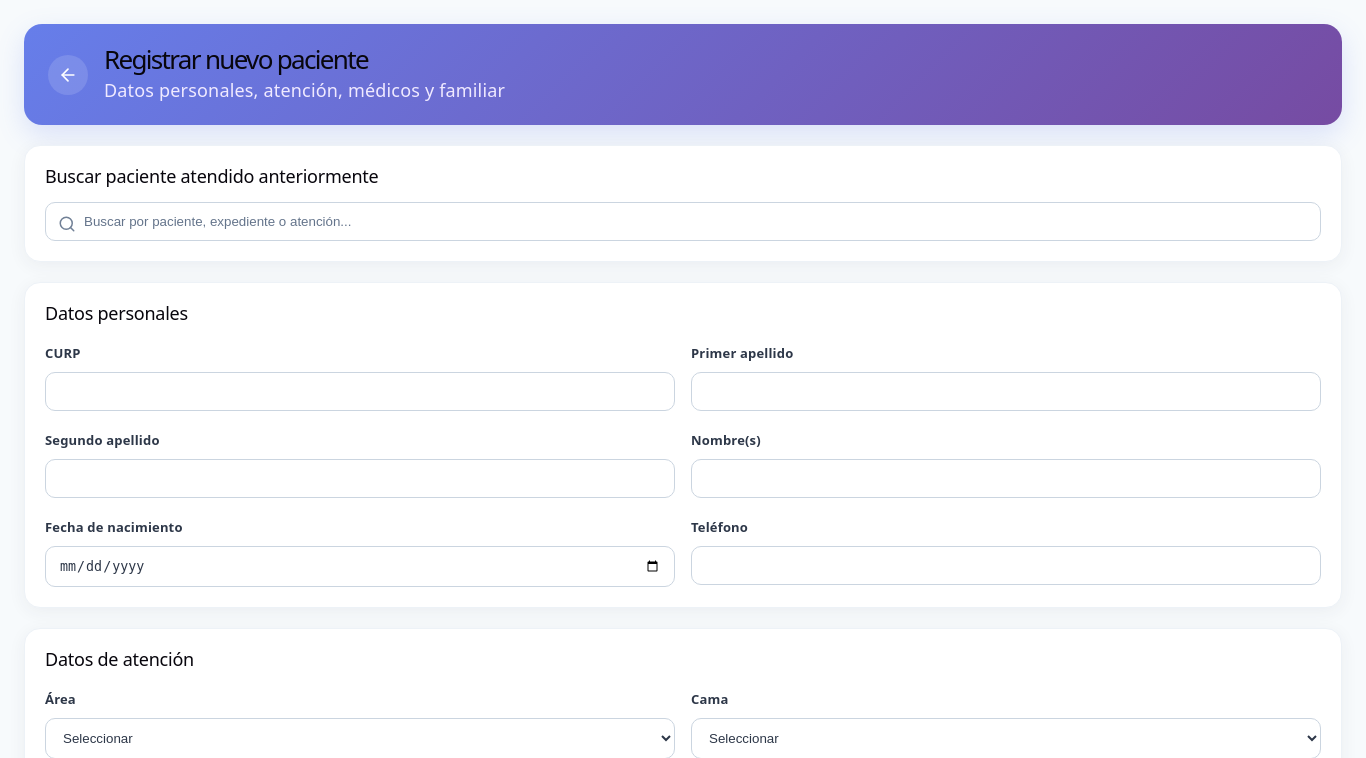
Test case: Registro y reactivación de pacientes existentes › impide iniciar otra atención desde el buscador si el paciente ya está activo
Type "Paciente QA" into the field named "Buscar paciente atendido anteriormente".
click(683, 222); type("Paciente QA")  # box [45, 202, 1321, 241]
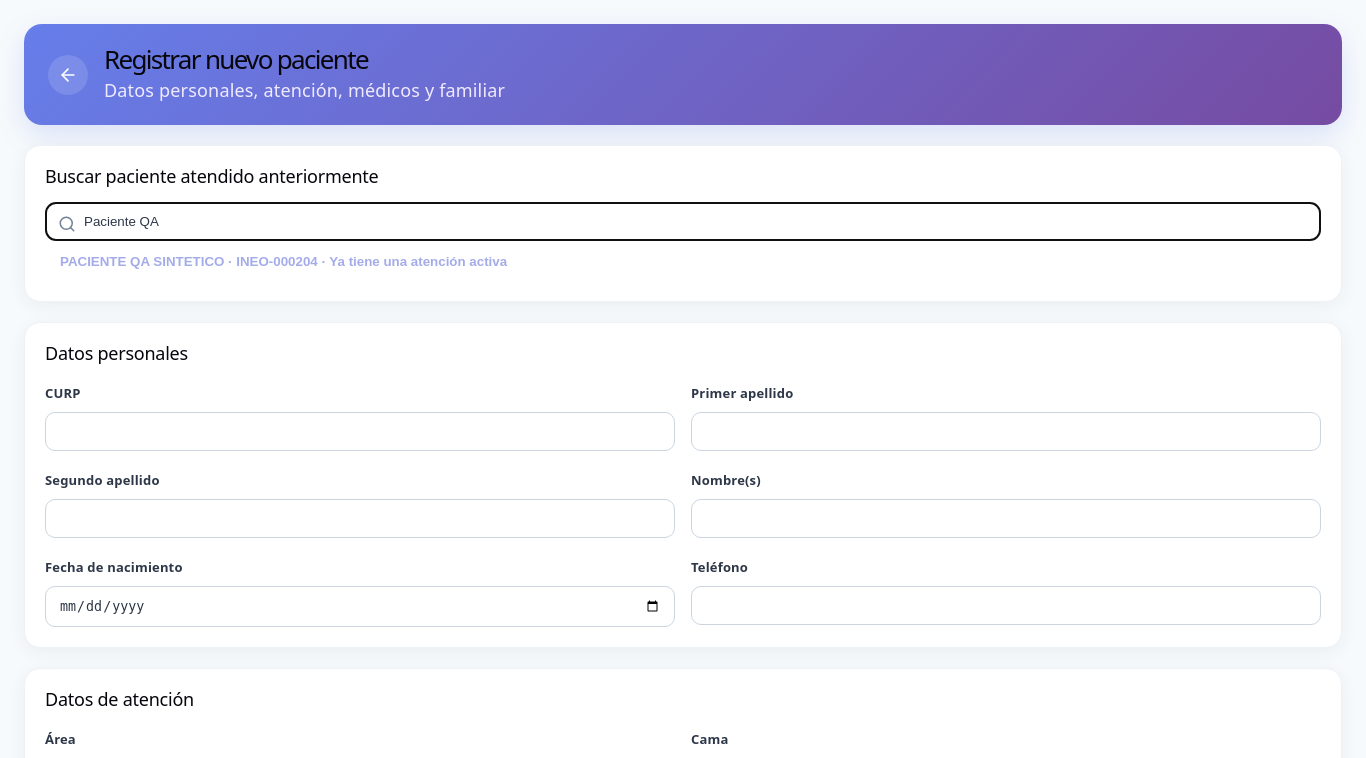
Now the button that starts with "PACIENTE QA SINTETICO" is disabled, box [45, 241, 522, 281]
